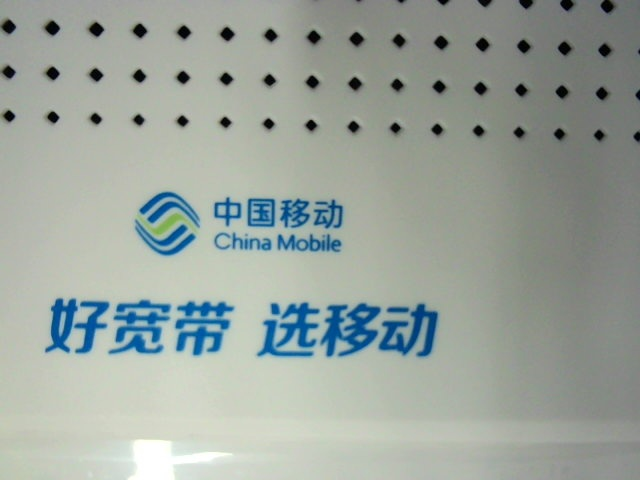AA_ChinaMobile: (34, 187, 458, 360)
